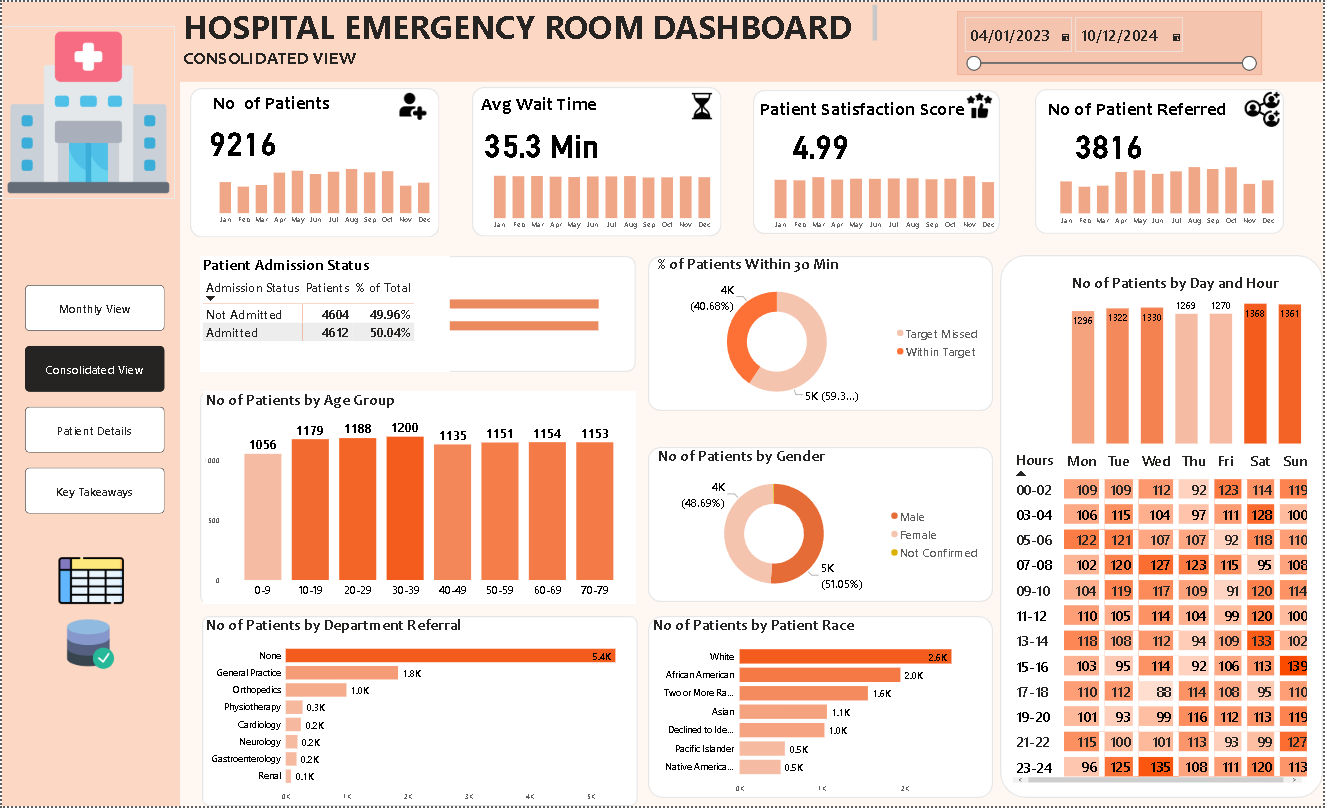

This screenshot's page, from the dashboard's own definition file:
{"tool":"powerbi","page":{"name":"Consolidated View","canvas":[2300,1400],"ordinal":1},"visuals":[{"type":"shape","box":[1737.8,440.5,562.4,945.5],"z":0},{"type":"shape","box":[1307.7,153.2,430.1,250.7],"z":1000},{"type":"shape","box":[817.8,148.3,434.5,260.3],"z":2000},{"type":"shape","box":[0,0,310,1400],"z":3000},{"type":"shape","box":[310,0,1990.3,139.3],"z":4000},{"type":"textbox","box":[310,0,1218.9,78.4],"z":5000},{"type":"shape","box":[327.6,150,434.5,260.3],"z":6000},{"type":"card","fields":{"Values":["Hospital ER_Data.No of Patients"]},"box":[344.8,202,149.8,76.6],"z":7000},{"type":"textbox","box":[1314.7,161.9,384.8,48.8],"z":8000},{"type":"shape","box":[1798.8,151.5,433.6,252.5],"z":9000},{"type":"textbox","box":[350,151.5,238.6,50.5],"z":10000},{"type":"textbox","box":[310,73.1,369.2,67.9],"z":11000},{"type":"textbox","box":[828.9,153.2,268.2,48.8],"z":13000},{"type":"card","fields":{"Values":["Hospital ER_Data.Avg Wait Time"]},"box":[829.3,205.2,222.4,77.6],"z":14000},{"type":"columnChart","fields":{"Y":["Avg(Hospital ER_Data.Patient Waittime)"],"Category":["Date Table.Month Name"]},"box":[816.7,280.3,435,125],"z":15000},{"type":"card","fields":{"Values":["Hospital ER_Data.Satisfaction Score"]},"box":[1315.5,206.9,222.4,77.6],"z":16000},{"type":"textbox","box":[1334.5,774.1,260.3,48.3],"z":17000},{"type":"columnChart","fields":{"Category":["Date Table.Month Name"],"Y":["Hospital ER_Data.Satisfaction Score"]},"box":[1311.2,280.3,435,125],"z":18000},{"type":"textbox","box":[1816.2,161.9,384.8,48.8],"z":19000},{"type":"card","fields":{"Values":["Hospital ER_Data.No of Patient Referred"]},"box":[1815.5,206.9,222.4,77.6],"z":20000},{"type":"columnChart","fields":{"Y":["Hospital ER_Data.No of Patient Referred"],"Category":["Date Table.Month Name"]},"box":[1797,271.6,435.3,125.4],"z":21000},{"type":"shape","box":[345.3,441.6,758.7,202],"z":22000},{"type":"barChart","fields":{"Category":["Hospital ER_Data.Admission Status"],"Y":["Hospital ER_Data.No of Patients"]},"box":[734.8,485.8,334.3,113.2],"z":23000},{"type":"pivotTable","title":"Patient Admission Status","fields":{"Rows":["Hospital ER_Data.Admission Status"],"Values":["Hospital ER_Data.No of Patients1","Hospital ER_Data.No of Patients"]},"box":[345.3,441.6,434.6,202],"z":24000},{"type":"shape","box":[345.3,676.5,758.7,371.1],"z":25000},{"type":"clusteredColumnChart","fields":{"Category":["Hospital ER_Data.Age Group"],"Y":["Hospital ER_Data.No of Patients"]},"box":[350,676.5,754,371.1],"z":26000},{"type":"shape","box":[347.7,1068.8,758.7,331.2],"z":27000},{"type":"clusteredBarChart","fields":{"Category":["Hospital ER_Data.Department Referral"],"Y":["Hospital ER_Data.No of Patients"]},"box":[350,1068.8,756.4,331.2],"z":28000},{"type":"shape","box":[1124.9,442.3,600.7,269.9],"z":29000},{"type":"donutChart","title":"% of Patients Within 30 Min","fields":{"Category":["Hospital ER_Data.Waittime Status"],"Y":["Hospital ER_Data.No of Patients"]},"box":[1137.1,440.5,576.4,269.9],"z":30000},{"type":"shape","box":[1124.9,774.9,600.7,269.9],"z":31000},{"type":"donutChart","title":"No of Patients by Gender","fields":{"Y":["Hospital ER_Data.No of Patients"],"Category":["Hospital ER_Data.Patient Gender"]},"box":[1137.1,774.9,576.4,269.9],"z":32000},{"type":"shape","box":[1124.9,1069.2,600.7,316.9],"z":33000},{"type":"clusteredBarChart","fields":{"Y":["Hospital ER_Data.No of Patients"],"Category":["Hospital ER_Data.Patient Race"]},"box":[1128.4,1069.2,571.1,316.9],"z":34000},{"type":"pivotTable","fields":{"Rows":["Hospital ER_Data.Waittime Interval"],"Columns":["Date Table.Day Name"],"Values":["Hospital ER_Data.No of Patients"]},"box":[1755.2,774.9,522.4,588.6],"z":35000},{"type":"columnChart","title":"No of Patients by Day and Hour","fields":{"Category":["Date Table.Day Name"],"Y":["Hospital ER_Data.No of Patients"]},"box":[1858,473.6,410.9,301.2],"z":36000},{"type":"image","box":[679.1,153.2,73.1,57.5],"z":37000},{"type":"image","box":[1185.8,153.2,66.2,55.7],"z":38000},{"type":"image","box":[1675.1,153.2,54,54],"z":39000},{"type":"image","box":[2155.7,151.5,76.6,71.4],"z":40000},{"type":"image","box":[0,41.8,301.2,301.2],"z":41000},{"type":"slicer","fields":{"Values":["Date Table.Date"]},"box":[1662.9,15.7,531.1,111.4],"z":42000},{"type":"columnChart","fields":{"Category":["Date Table.Month Name"],"Y":["Hospital ER_Data.No of Patients"]},"box":[327.4,271.6,435,125],"z":42001},{"type":"pageNavigator","box":[40,492.8,243.8,400.5],"z":42002}]}

Visuals, with their boxes in screenshot pixels (x1, y1, x2, y2), scaled from the page's 2300x1400 canvas onto the 1327x808 screenshot:
shape: bbox(1003, 254, 1326, 800)
shape: bbox(754, 88, 1003, 233)
shape: bbox(472, 86, 723, 236)
shape: bbox(0, 0, 179, 807)
shape: bbox(179, 0, 1326, 80)
textbox: bbox(179, 0, 882, 45)
shape: bbox(189, 87, 440, 237)
card - Hospital ER_Data.No of Patients: bbox(199, 117, 285, 161)
textbox: bbox(759, 93, 981, 122)
shape: bbox(1038, 87, 1288, 233)
textbox: bbox(202, 87, 340, 117)
textbox: bbox(179, 42, 392, 81)
textbox: bbox(478, 88, 633, 117)
card - Hospital ER_Data.Avg Wait Time: bbox(478, 118, 607, 163)
columnChart - Avg(Hospital ER_Data.Patient Waittime) x Date Table.Month Name: bbox(471, 162, 722, 234)
card - Hospital ER_Data.Satisfaction Score: bbox(759, 119, 887, 164)
textbox: bbox(770, 447, 920, 475)
columnChart - Date Table.Month Name x Hospital ER_Data.Satisfaction Score: bbox(757, 162, 1007, 234)
textbox: bbox(1048, 93, 1270, 122)
card - Hospital ER_Data.No of Patient Referred: bbox(1047, 119, 1176, 164)
columnChart - Hospital ER_Data.No of Patient Referred x Date Table.Month Name: bbox(1037, 157, 1288, 229)
shape: bbox(199, 255, 637, 371)
barChart - Hospital ER_Data.Admission Status x Hospital ER_Data.No of Patients: bbox(424, 280, 617, 346)
"Patient Admission Status" pivotTable: bbox(199, 255, 450, 371)
shape: bbox(199, 390, 637, 605)
clusteredColumnChart - Hospital ER_Data.Age Group x Hospital ER_Data.No of Patients: bbox(202, 390, 637, 605)
shape: bbox(201, 617, 638, 807)
clusteredBarChart - Hospital ER_Data.Department Referral x Hospital ER_Data.No of Patients: bbox(202, 617, 638, 807)
shape: bbox(649, 255, 996, 411)
"% of Patients Within 30 Min" donutChart: bbox(656, 254, 989, 410)
shape: bbox(649, 447, 996, 603)
"No of Patients by Gender" donutChart: bbox(656, 447, 989, 603)
shape: bbox(649, 617, 996, 800)
clusteredBarChart - Hospital ER_Data.No of Patients x Hospital ER_Data.Patient Race: bbox(651, 617, 981, 800)
pivotTable - Hospital ER_Data.Waittime Interval x Date Table.Day Name: bbox(1013, 447, 1314, 787)
"No of Patients by Day and Hour" columnChart: bbox(1072, 273, 1309, 447)
image: bbox(392, 88, 434, 122)
image: bbox(684, 88, 722, 121)
image: bbox(966, 88, 998, 120)
image: bbox(1244, 87, 1288, 129)
image: bbox(0, 24, 174, 198)
slicer - Date Table.Date: bbox(959, 9, 1266, 73)
columnChart - Date Table.Month Name x Hospital ER_Data.No of Patients: bbox(189, 157, 440, 229)
pageNavigator: bbox(23, 284, 164, 516)
